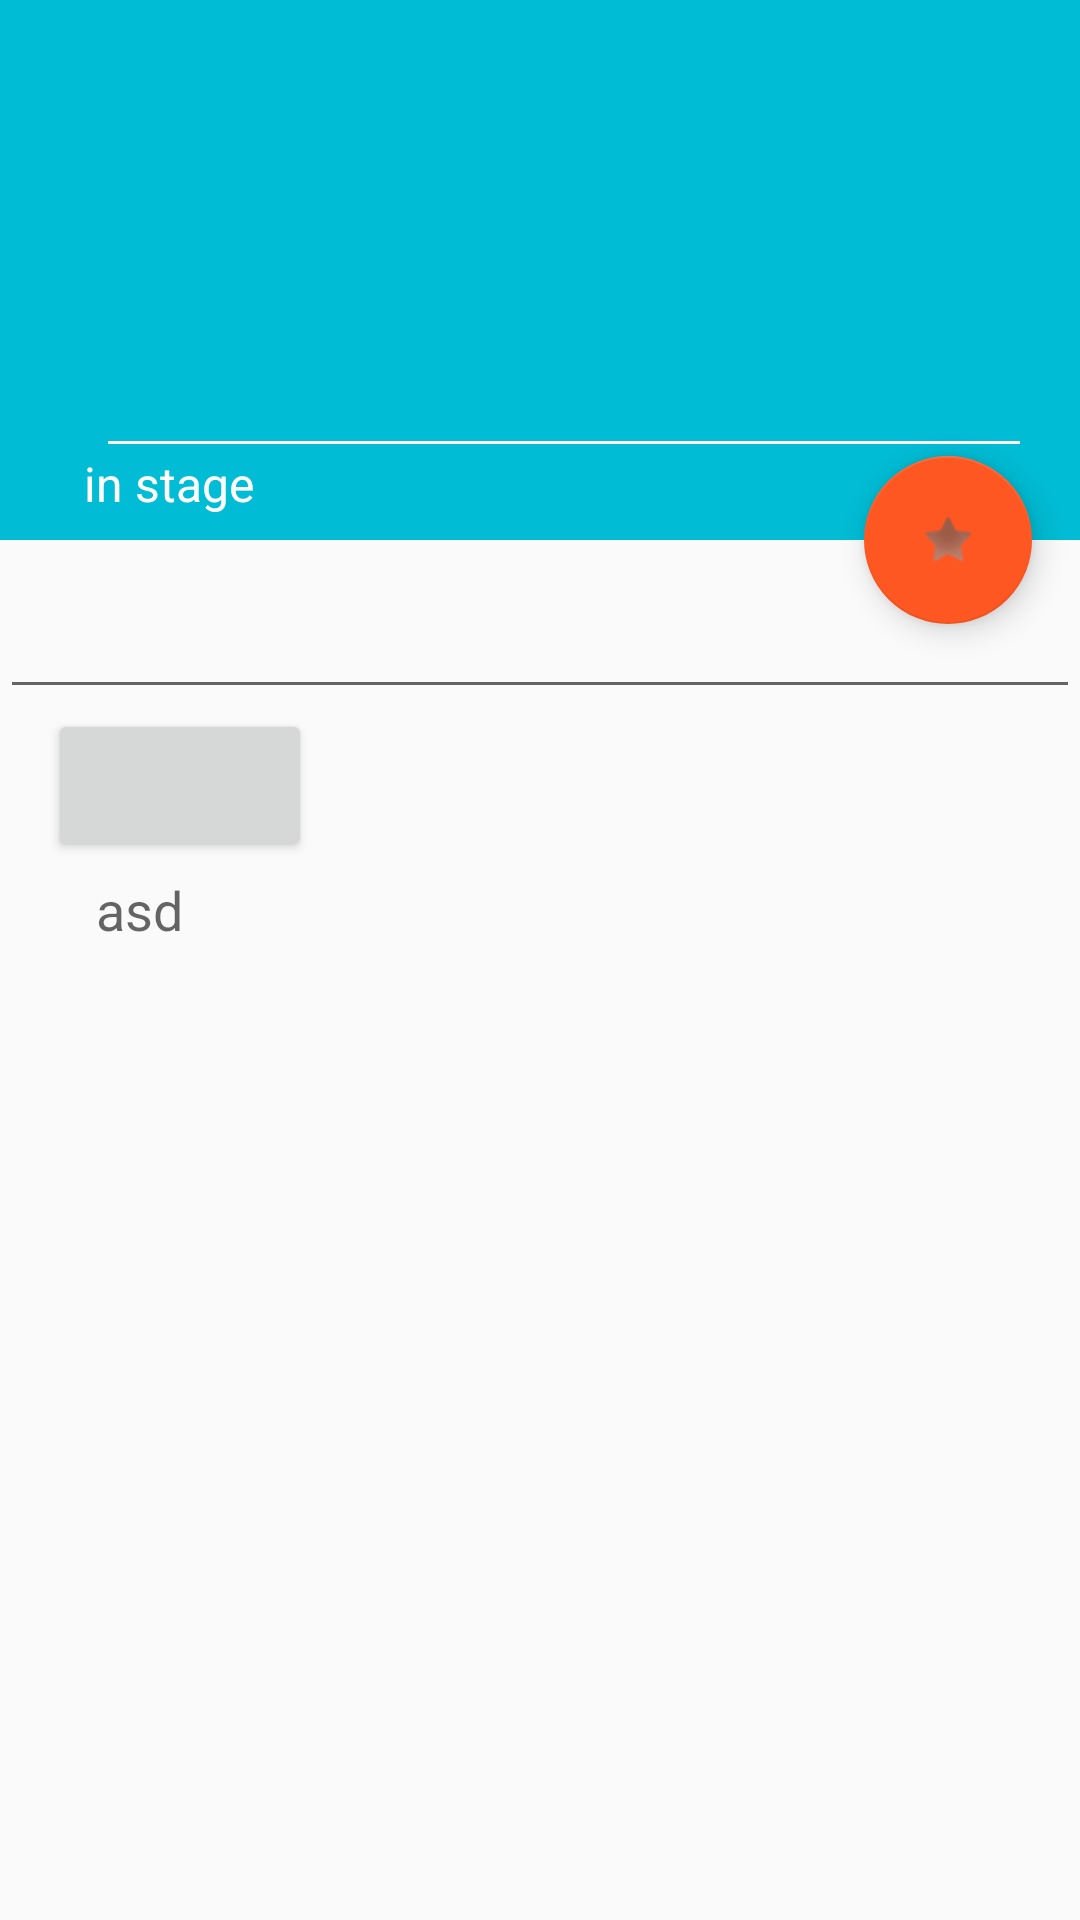

Named icons in this screenshot (1080×1920) and their centers, (x=x, y=y):
star off: (x=948, y=540)
